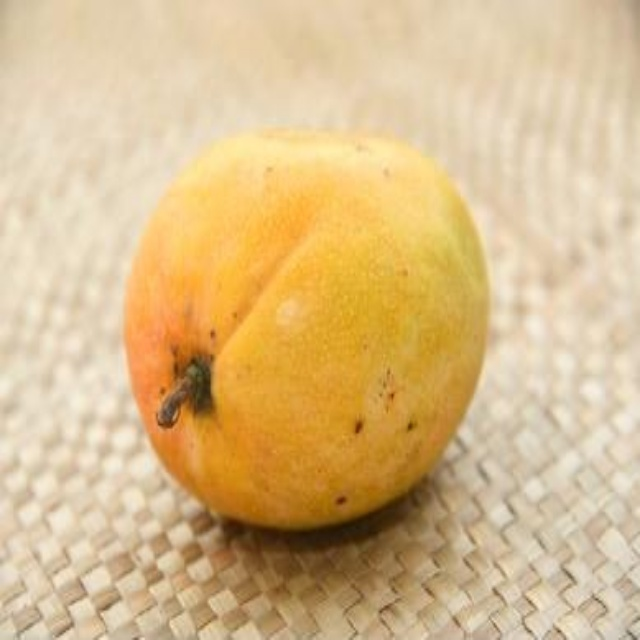mango: (127, 118, 489, 525)
